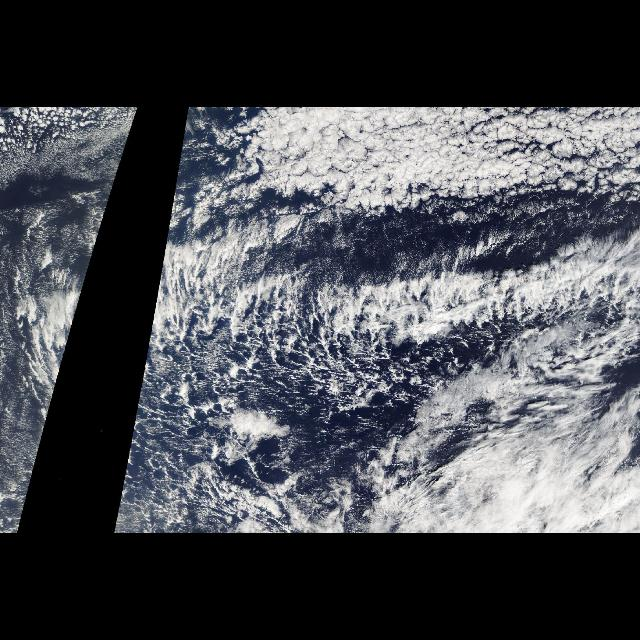Fish: (238, 246, 640, 374)
Flower: (2, 108, 138, 192)
Gravel: (114, 264, 420, 530), (311, 201, 639, 261), (40, 388, 58, 458)
